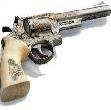gun: (1, 0, 111, 110)
